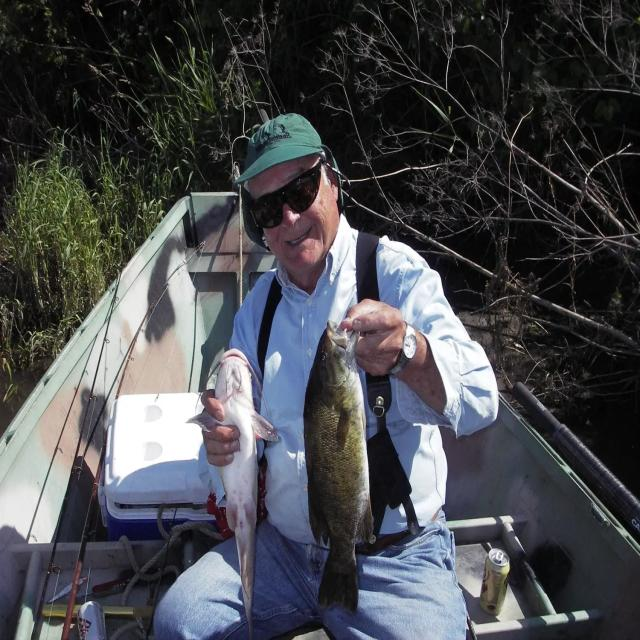Bass - Smallmouth: (304, 321, 372, 612)
